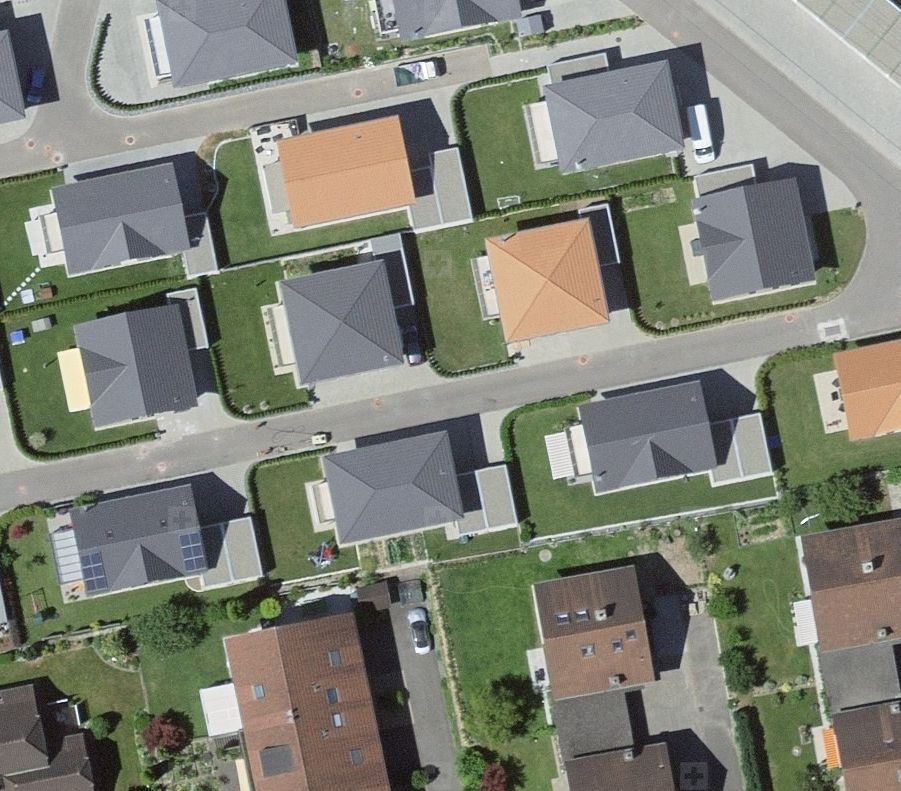solar: (178, 529, 207, 572), (79, 551, 108, 591)
